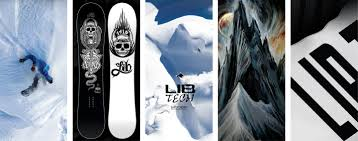snowboard: (74, 4, 107, 141), (106, 3, 137, 141)
